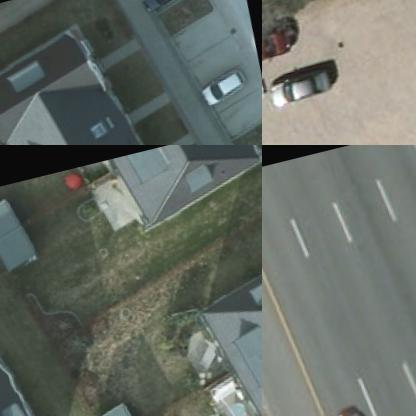car: (270, 65, 338, 110), (199, 70, 256, 110), (136, 0, 198, 19), (337, 398, 400, 415)
pickup: (262, 21, 298, 74)
